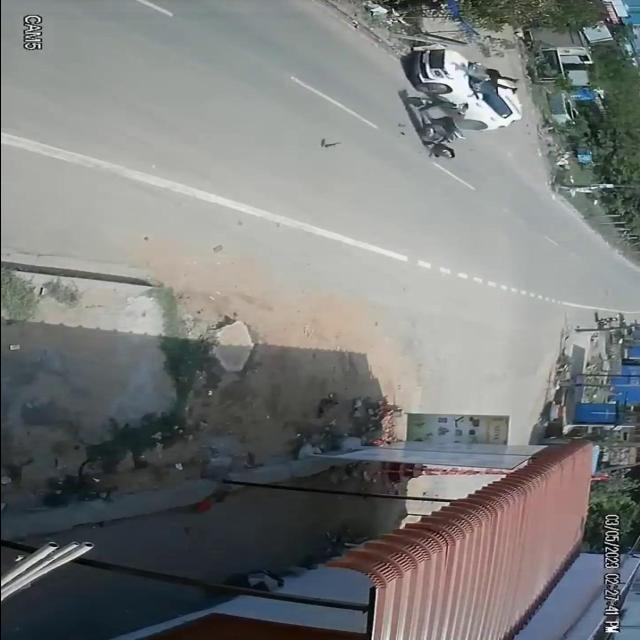accident: (394, 48, 530, 162)
